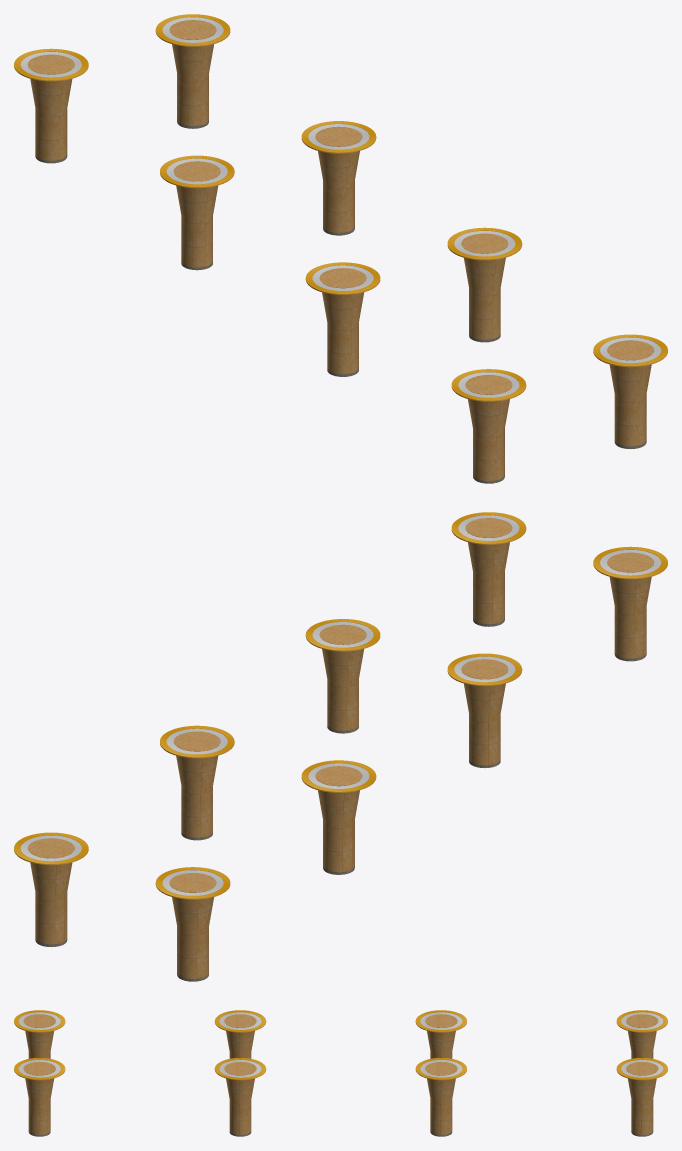
Rendered from Subway05Column01.FBX.
The picture shows the model from 3 angles, top to bottom: view 1: azimuth 30°, elevation 25°; view 2: azimuth 150°, elevation 25°; view 3: azimuth 270°, elevation 25°; orthographic projection. The views are drawn at different scales.
Visible parts, largest first — view 1: Subway05Column01a, Subway05Circle01a, Subway05CircleLights; view 2: Subway05Column01a, Subway05Circle01a, Subway05CircleLights; view 3: Subway05Column01a, Subway05Circle01a, Subway05CircleLights.
Boxes of the visible parts, x1,y1,x2,y2 form: Subway05Column01a: (27, 20, 654, 483); Subway05Circle01a: (14, 14, 667, 401); Subway05CircleLights: (20, 17, 661, 397); Subway05Column01a: (27, 518, 654, 981); Subway05Circle01a: (14, 512, 667, 899); Subway05CircleLights: (20, 515, 661, 895); Subway05Column01a: (23, 1014, 658, 1136); Subway05Circle01a: (14, 1010, 667, 1080); Subway05CircleLights: (18, 1012, 663, 1077).
Bounding box in the file's own units: 16456 × 7020 × 65576.
